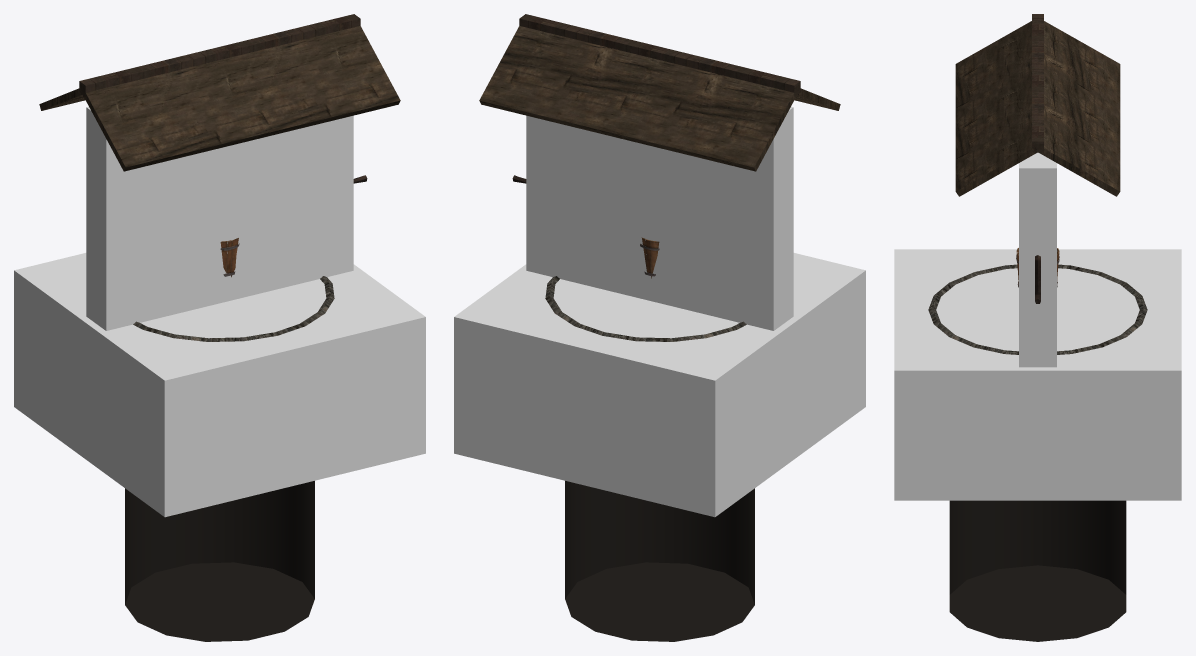
Rendered from well_stone.glb.
3 views of the same model, side by side, from view 1: azimuth 30°, elevation 25°; view 2: azimuth 150°, elevation 25°; view 3: azimuth 270°, elevation 25° (orthographic). The views are drawn at different scales.
Visible parts, largest first — view 1: col_well, well, col_well_posts; view 2: col_well, well, col_well_posts; view 3: col_well, well, col_well_posts.
Boxes of the visible parts, bbox=[...] form: col_well: bbox=[14, 253, 425, 517]; well: bbox=[39, 14, 400, 641]; col_well_posts: bbox=[86, 106, 353, 330]; col_well: bbox=[454, 253, 865, 517]; well: bbox=[479, 14, 840, 641]; col_well_posts: bbox=[526, 106, 793, 330]; col_well: bbox=[894, 249, 1181, 500]; well: bbox=[928, 14, 1147, 641]; col_well_posts: bbox=[1019, 152, 1056, 367].
Bounding box in the file's own units: 2.06 × 3.84 × 1.9.
9 materials, 7 textured.
